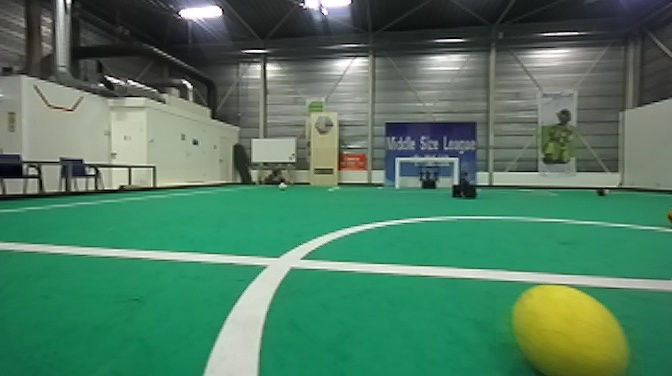ball: (508, 279, 629, 373), (595, 185, 610, 197), (277, 182, 287, 191)
goal: (390, 156, 461, 191)
robot: (451, 162, 480, 200), (417, 163, 441, 190)
